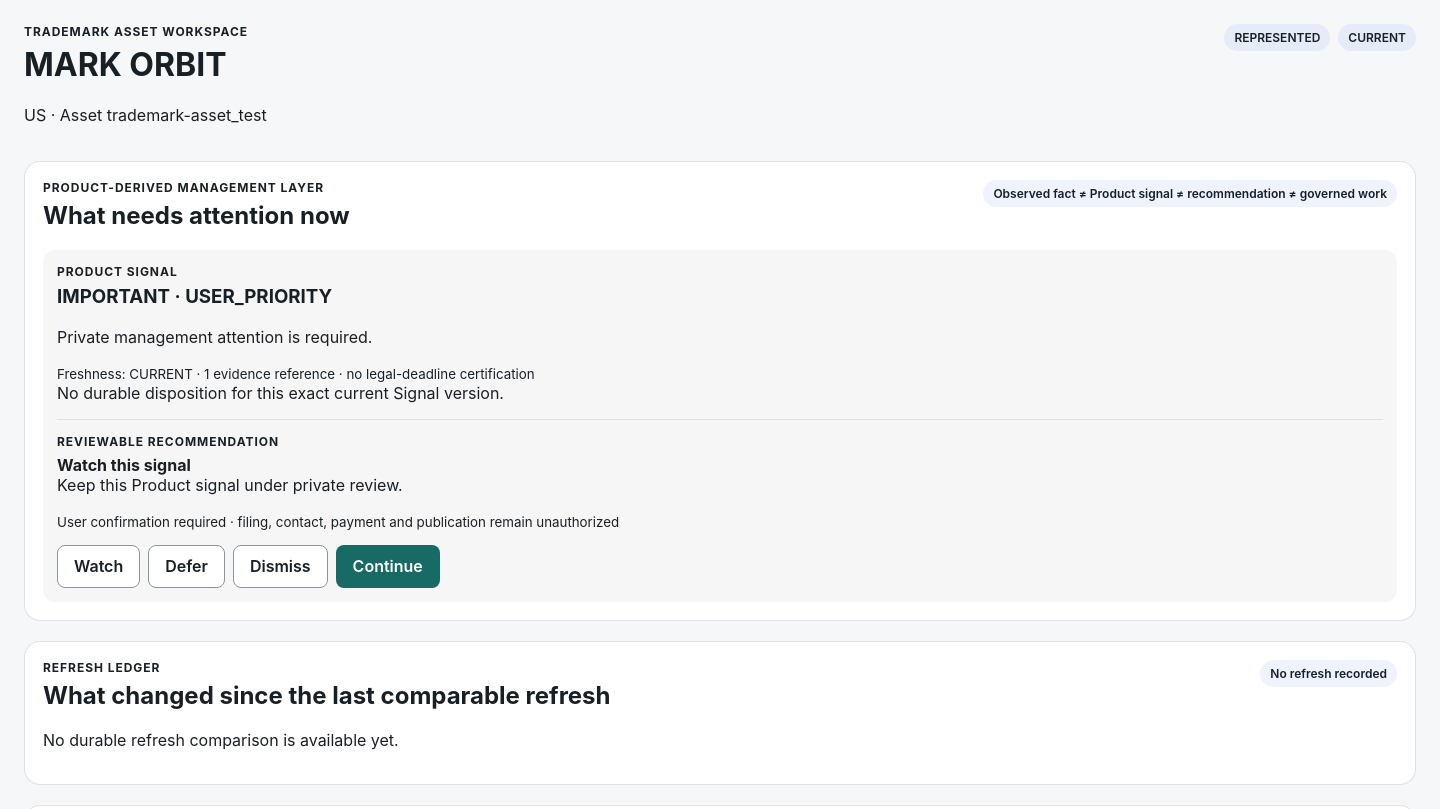
it: TrademarkAssetWorkspace › posts once, then stays locked when durable reload remains null
The width and height of the screenshot is (1440, 809).
Click the button "Watch".
click(99, 566)  # box [57, 545, 140, 588]
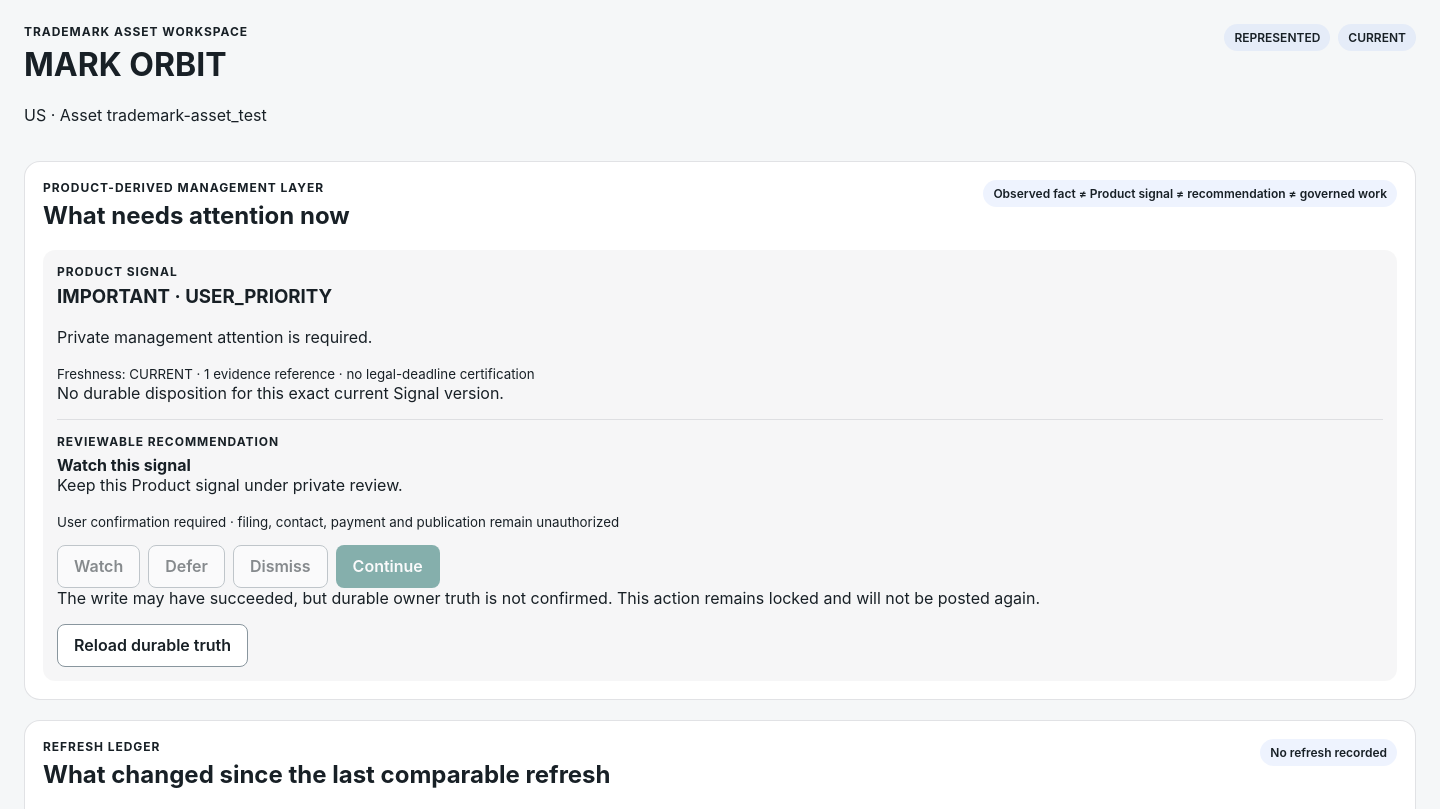
Now the text "action remains locked" is shown, box [57, 588, 1040, 608]
Now the button "Watch" is disabled, box [57, 545, 140, 588]
